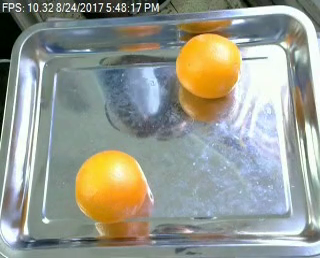Orange: (74, 149, 148, 223), (175, 34, 242, 99)
